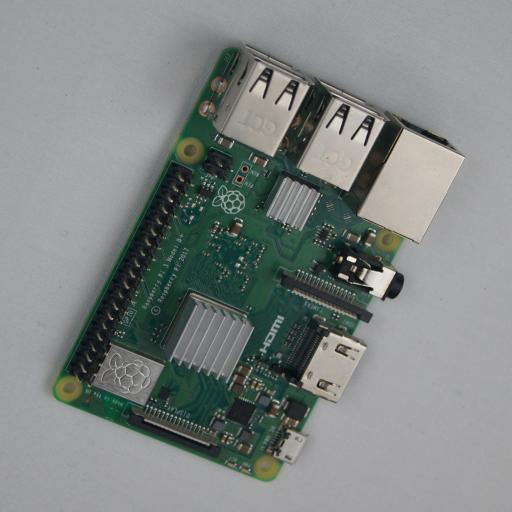Raspberry Pi 3 B-: (52, 42, 466, 482)
